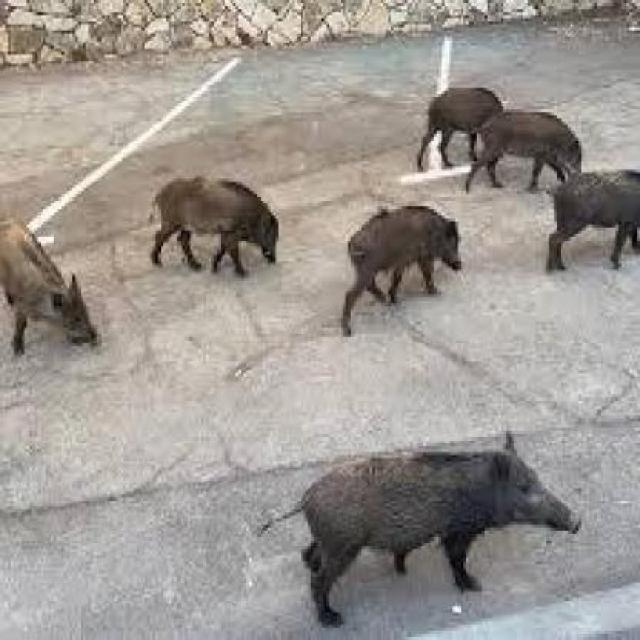wildboar: (255, 428, 593, 629), (333, 200, 467, 346), (138, 170, 288, 281), (0, 206, 105, 363), (454, 106, 588, 197), (541, 164, 640, 280), (411, 82, 518, 180)
